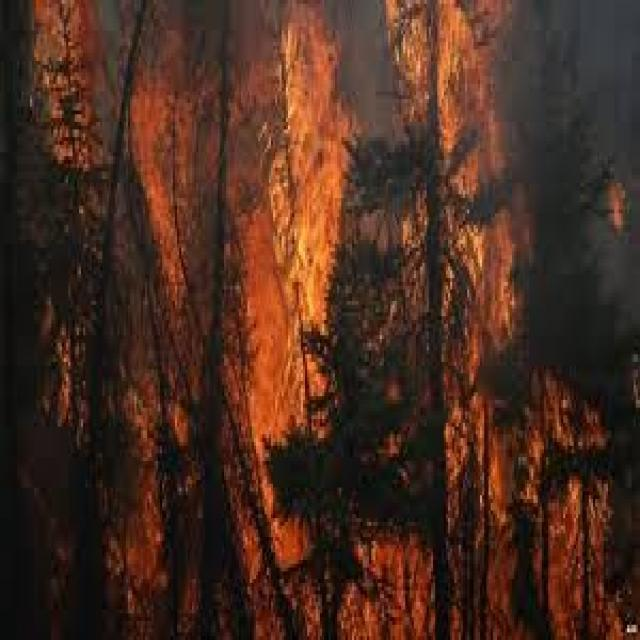Fire: (63, 9, 376, 550), (266, 132, 337, 346), (429, 32, 496, 201), (469, 227, 516, 332), (580, 503, 618, 626), (596, 184, 640, 290), (401, 554, 442, 640), (274, 514, 306, 568)
Smoke: (203, 128, 242, 298)
